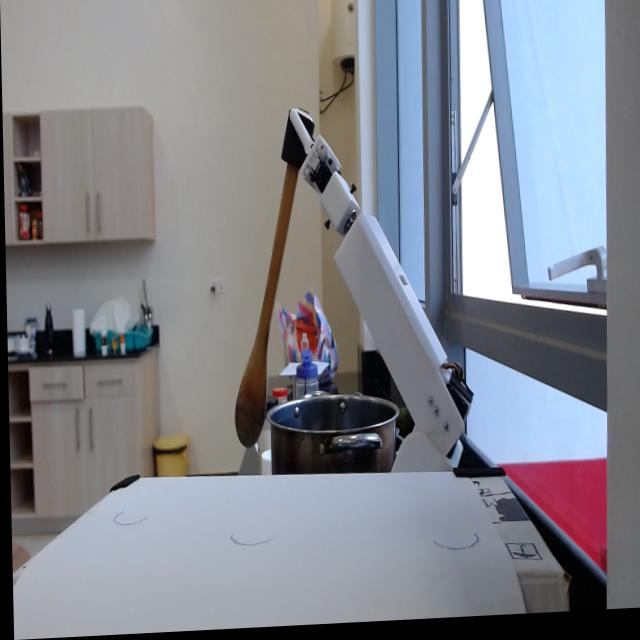cooking_pot: (269, 408, 403, 480)
spatula: (228, 120, 301, 417)
